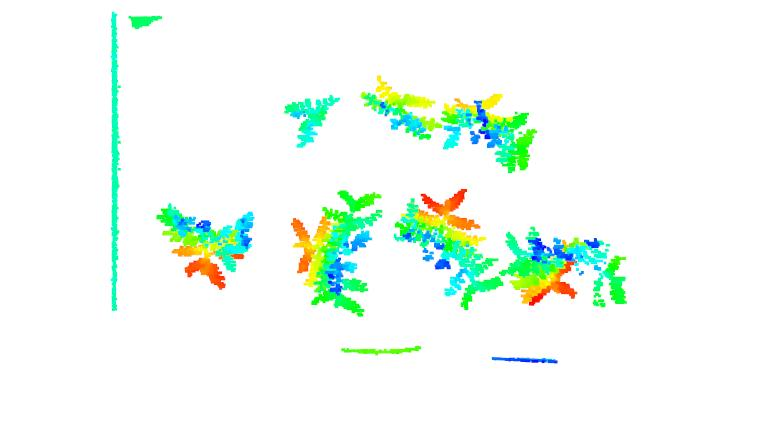chickpea: (398, 186, 503, 310), (292, 188, 387, 317), (499, 226, 630, 309), (155, 204, 254, 292), (359, 76, 442, 140), (435, 93, 523, 148), (283, 92, 342, 151), (488, 109, 536, 175)
